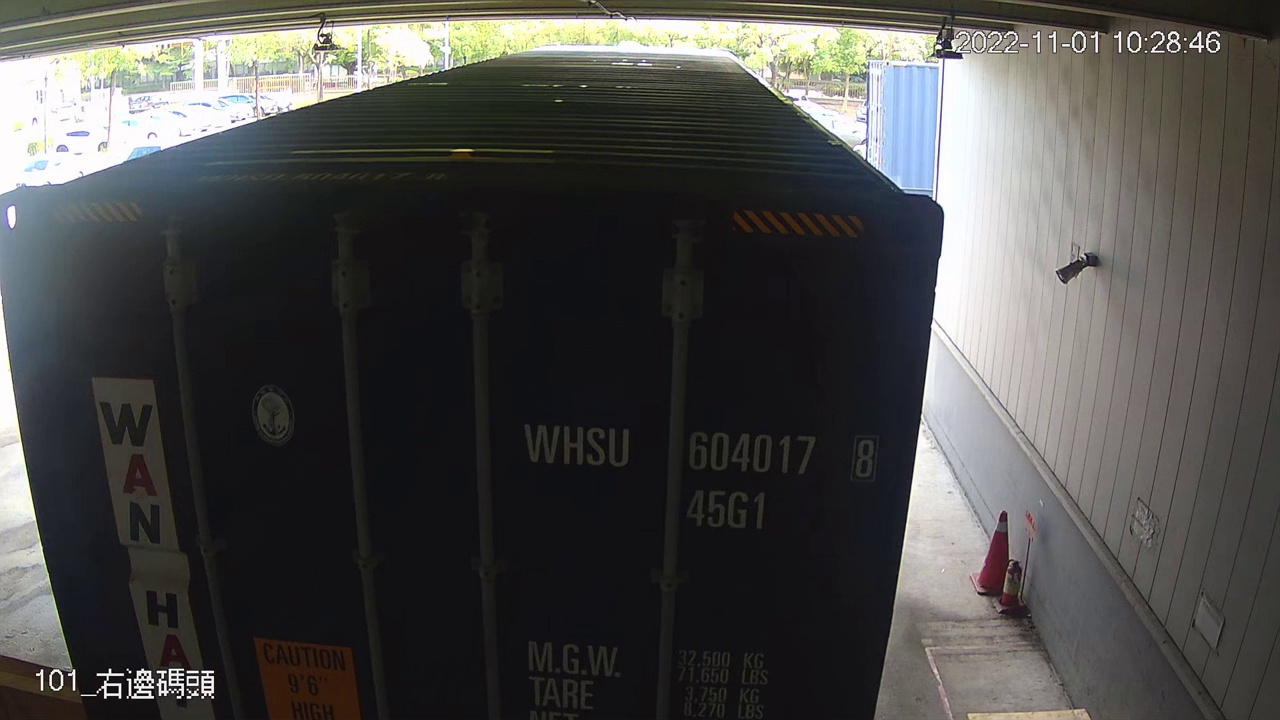container: (505, 399, 891, 540)
